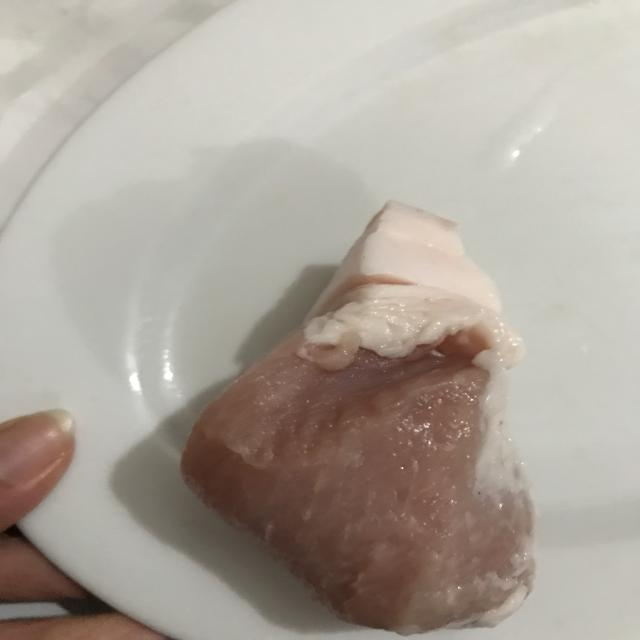chicken: (176, 198, 539, 640)
